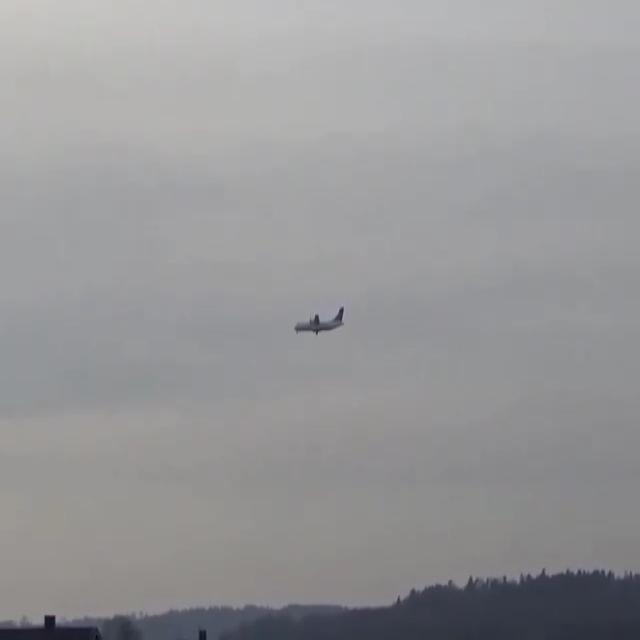AirPlane: (282, 300, 353, 344)
